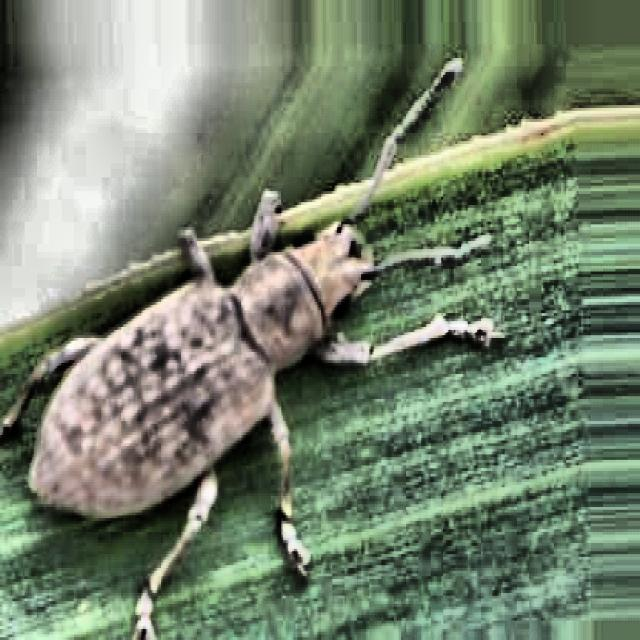Stink bug: (17, 91, 417, 640)
